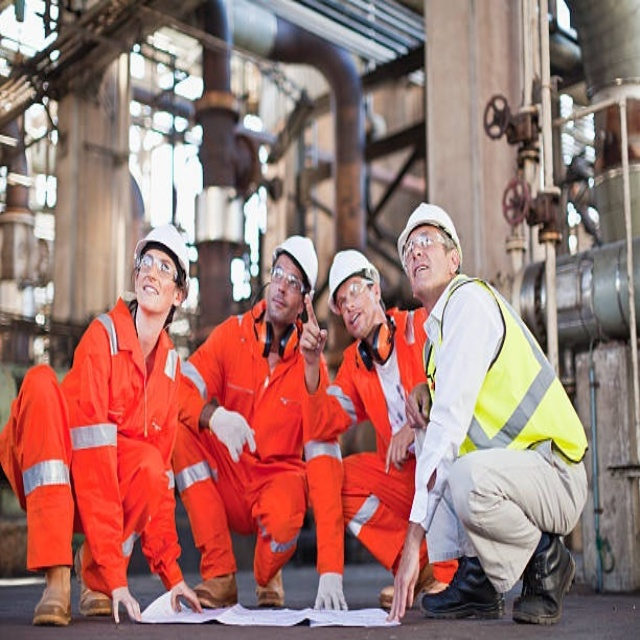Gafas: (403, 233, 451, 261), (135, 253, 179, 283), (335, 277, 375, 308), (270, 266, 305, 292)
Guantes: (209, 407, 256, 464), (315, 572, 348, 612)
Sin_guantes: (386, 533, 420, 621), (385, 416, 421, 476), (404, 379, 432, 434), (166, 578, 203, 615), (110, 585, 143, 625)
Sin_mascara: (142, 282, 159, 296), (412, 263, 428, 277), (272, 297, 287, 309), (350, 312, 361, 327)
